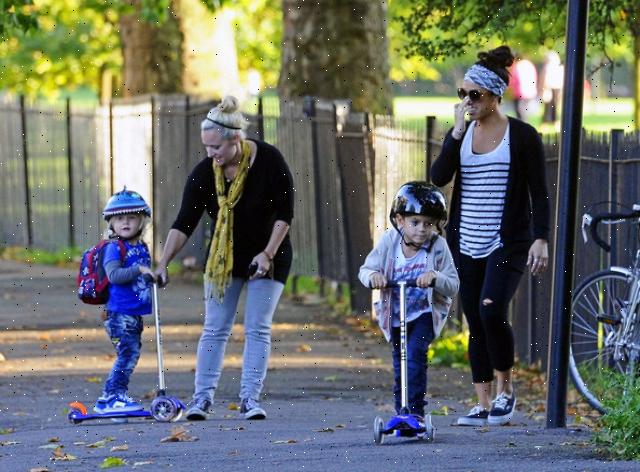With Helmet: (382, 176, 446, 250), (98, 180, 154, 240)
Without Helmet: (197, 97, 246, 164), (457, 60, 507, 120)
